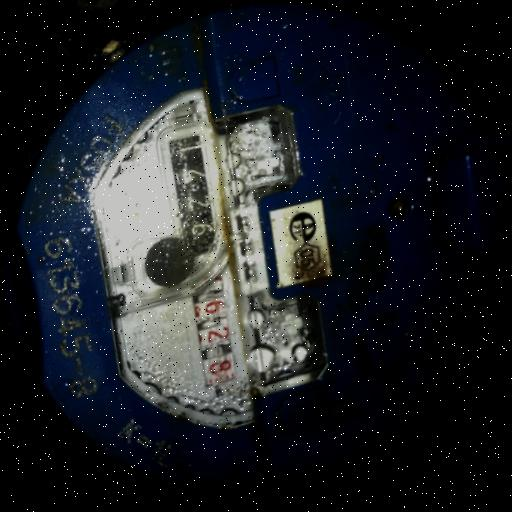1: (162, 126, 209, 170)
2: (168, 177, 219, 228), (189, 311, 239, 362)
4: (165, 148, 215, 198)
6: (172, 205, 225, 257), (179, 256, 232, 306), (185, 285, 234, 331)
8: (192, 341, 243, 393)
border_water_meter_number: (98, 106, 310, 411)
